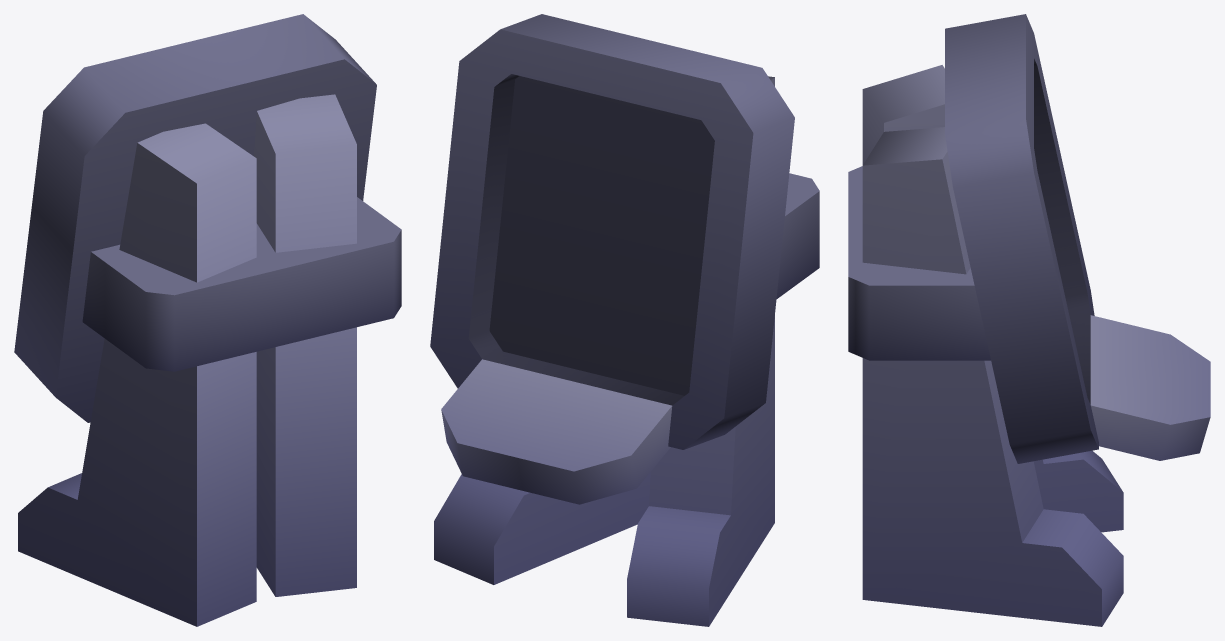
Rendered from screen-panel-small.glb.
3 renders of one model, left to right at view 1: azimuth 30°, elevation 25°; view 2: azimuth 150°, elevation 25°; view 3: azimuth 270°, elevation 25°, orthographic. The views are drawn at different scales.
Visible parts, largest first — view 1: screen-panel-small; view 2: screen-panel-small; view 3: screen-panel-small.
Part boxes in pixels (x1,y1,x2,y2): screen-panel-small: (14,14,401,626); screen-panel-small: (430,14,819,626); screen-panel-small: (848,14,1210,626).
Bounding box in the file's own units: 0.6 × 0.9913 × 0.6572.
